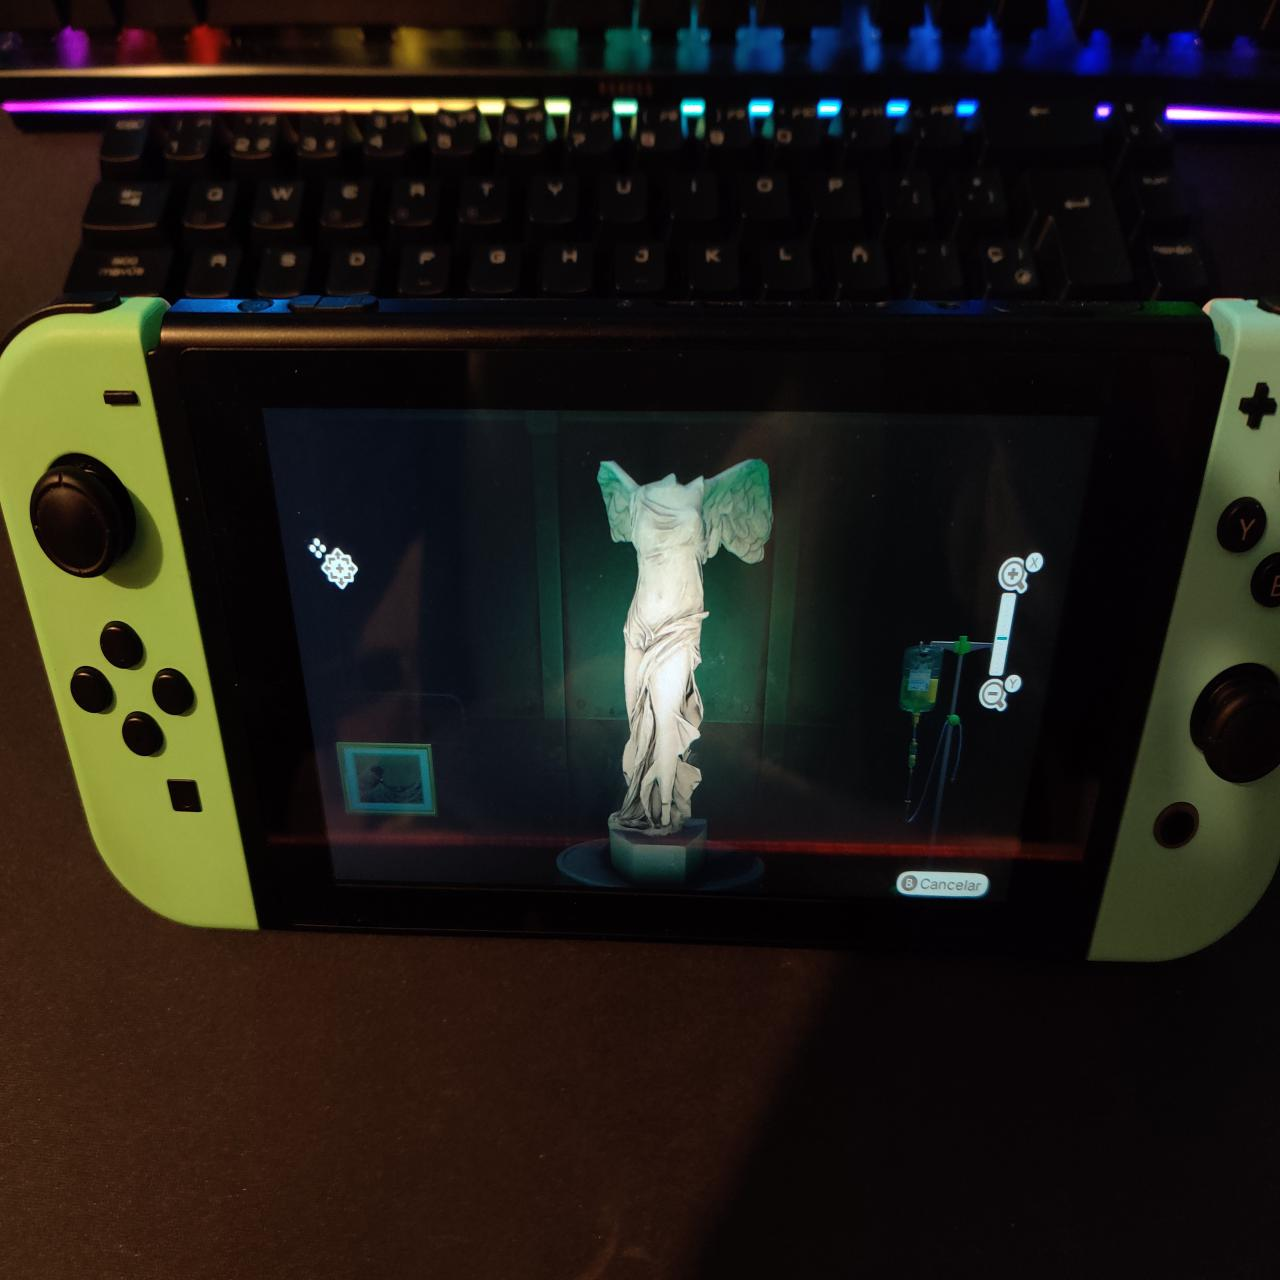SamothraceFake: (591, 452, 777, 847)
